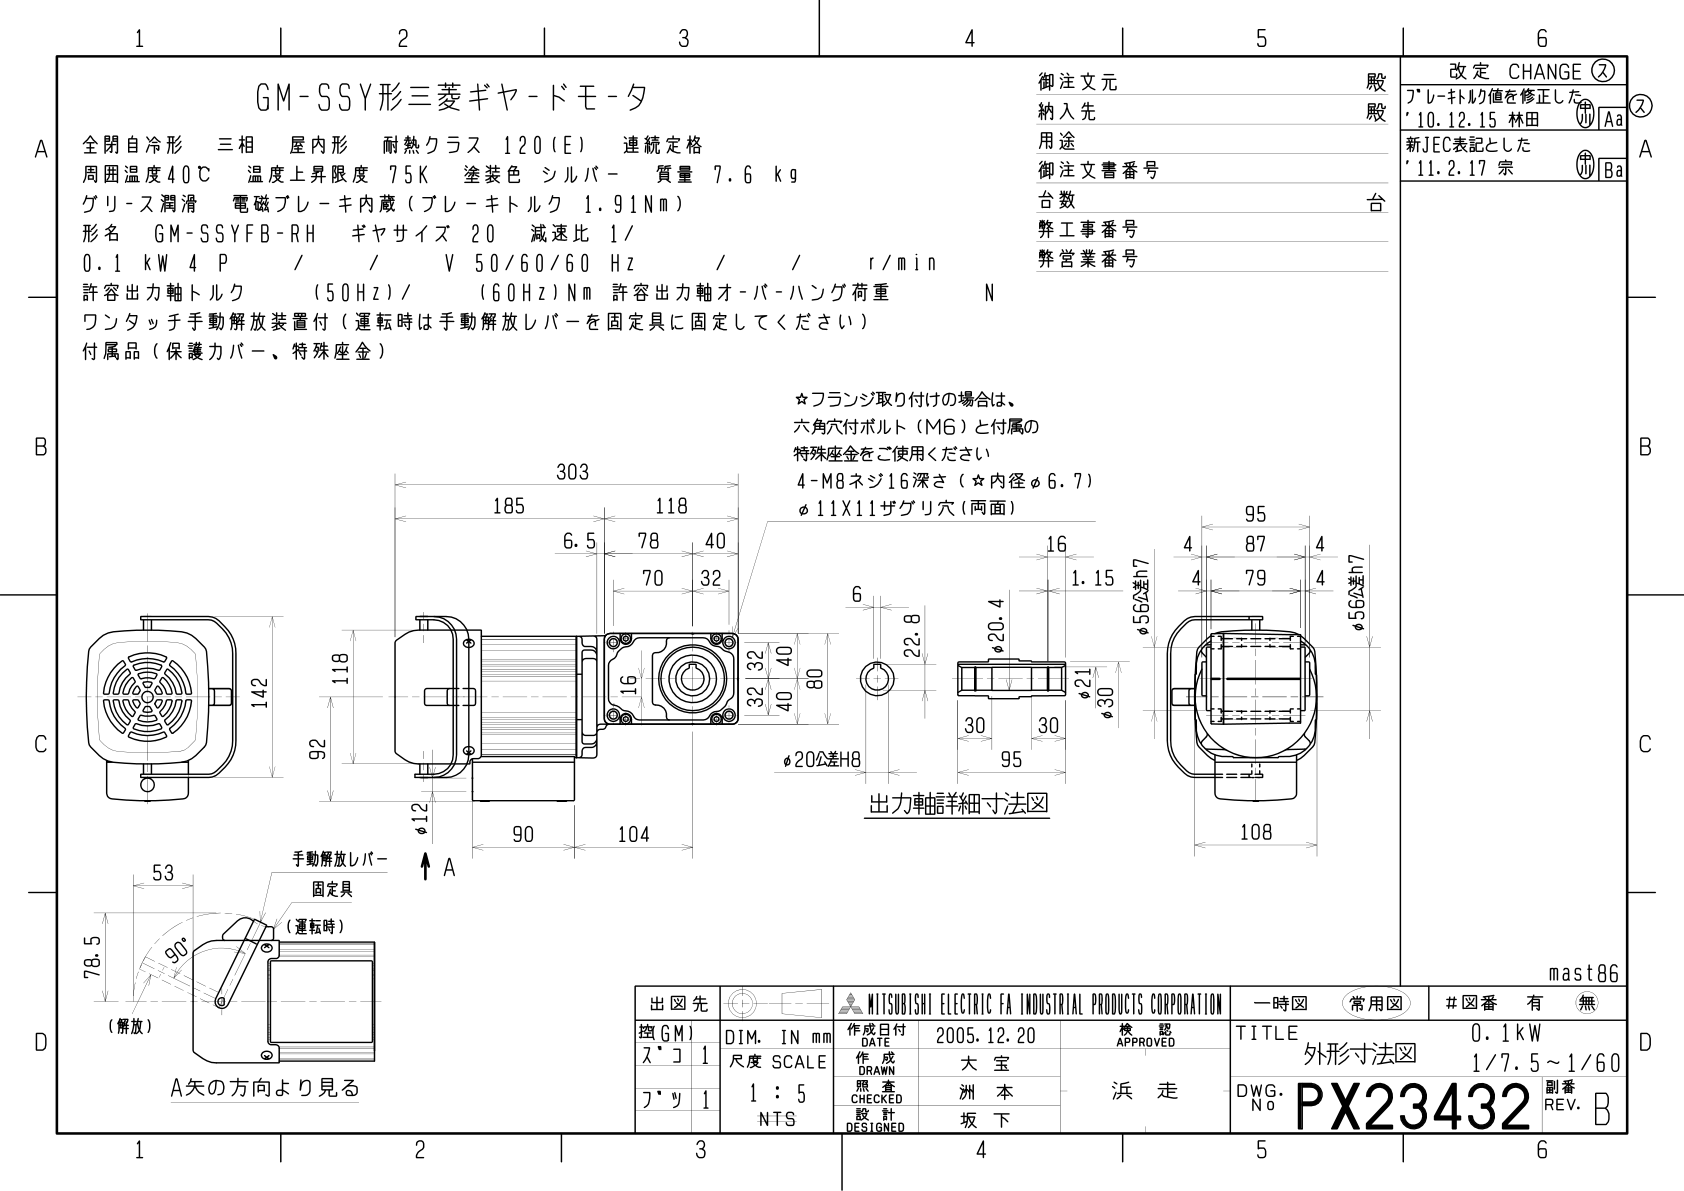GM_SSY_手動解放_三相: (73, 367, 1395, 949)
